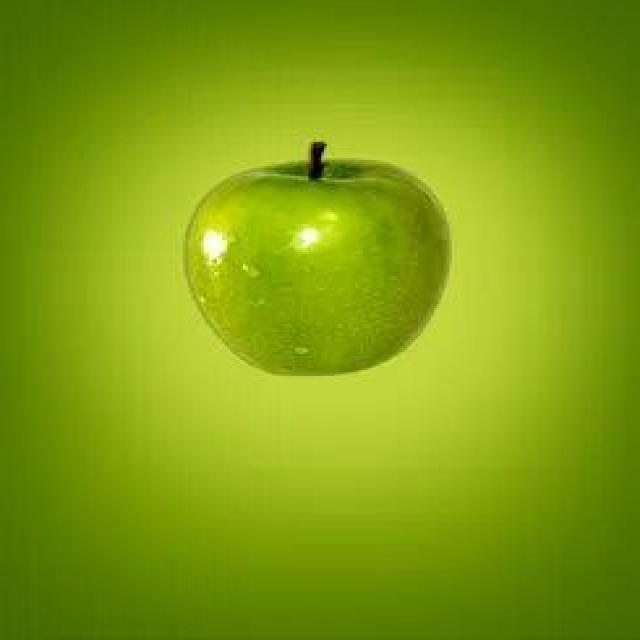Healty Apple: (185, 160, 452, 374)
